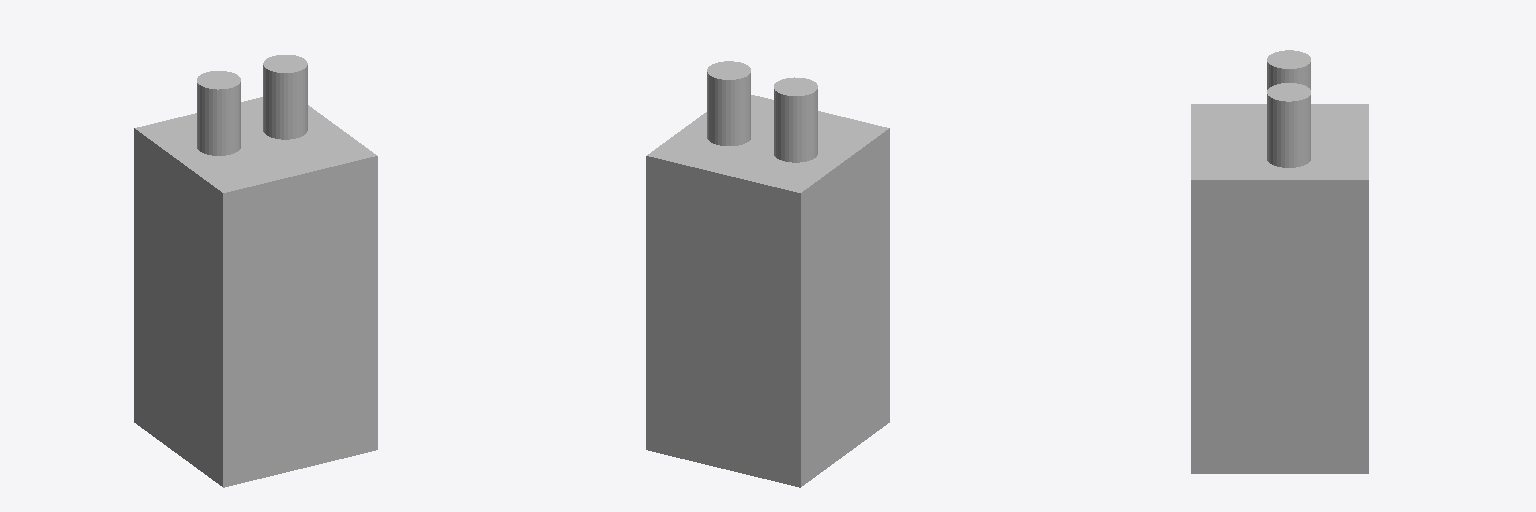
File: chimney.obj
3 renders of one model, left to right at view 1: azimuth 30°, elevation 25°; view 2: azimuth 150°, elevation 25°; view 3: azimuth 270°, elevation 25°, orthographic.
Parts seen in each view (by area): view 1: Cube.001_Cube.002, Cylinder.002, Cylinder.001; view 2: Cube.001_Cube.002, Cylinder.001, Cylinder.002; view 3: Cube.001_Cube.002, Cylinder.002, Cylinder.001.
Part boxes in pixels (x1,y1,x2,y2): Cube.001_Cube.002: (134, 97, 377, 487); Cylinder.002: (263, 55, 307, 139); Cylinder.001: (197, 71, 240, 155); Cube.001_Cube.002: (646, 95, 889, 487); Cylinder.001: (774, 77, 817, 162); Cylinder.002: (707, 61, 750, 145); Cube.001_Cube.002: (1191, 104, 1368, 473); Cylinder.002: (1267, 83, 1310, 167); Cylinder.001: (1267, 50, 1310, 89).
Bounding box in the file's own units: 0.8 × 1.79 × 0.8.